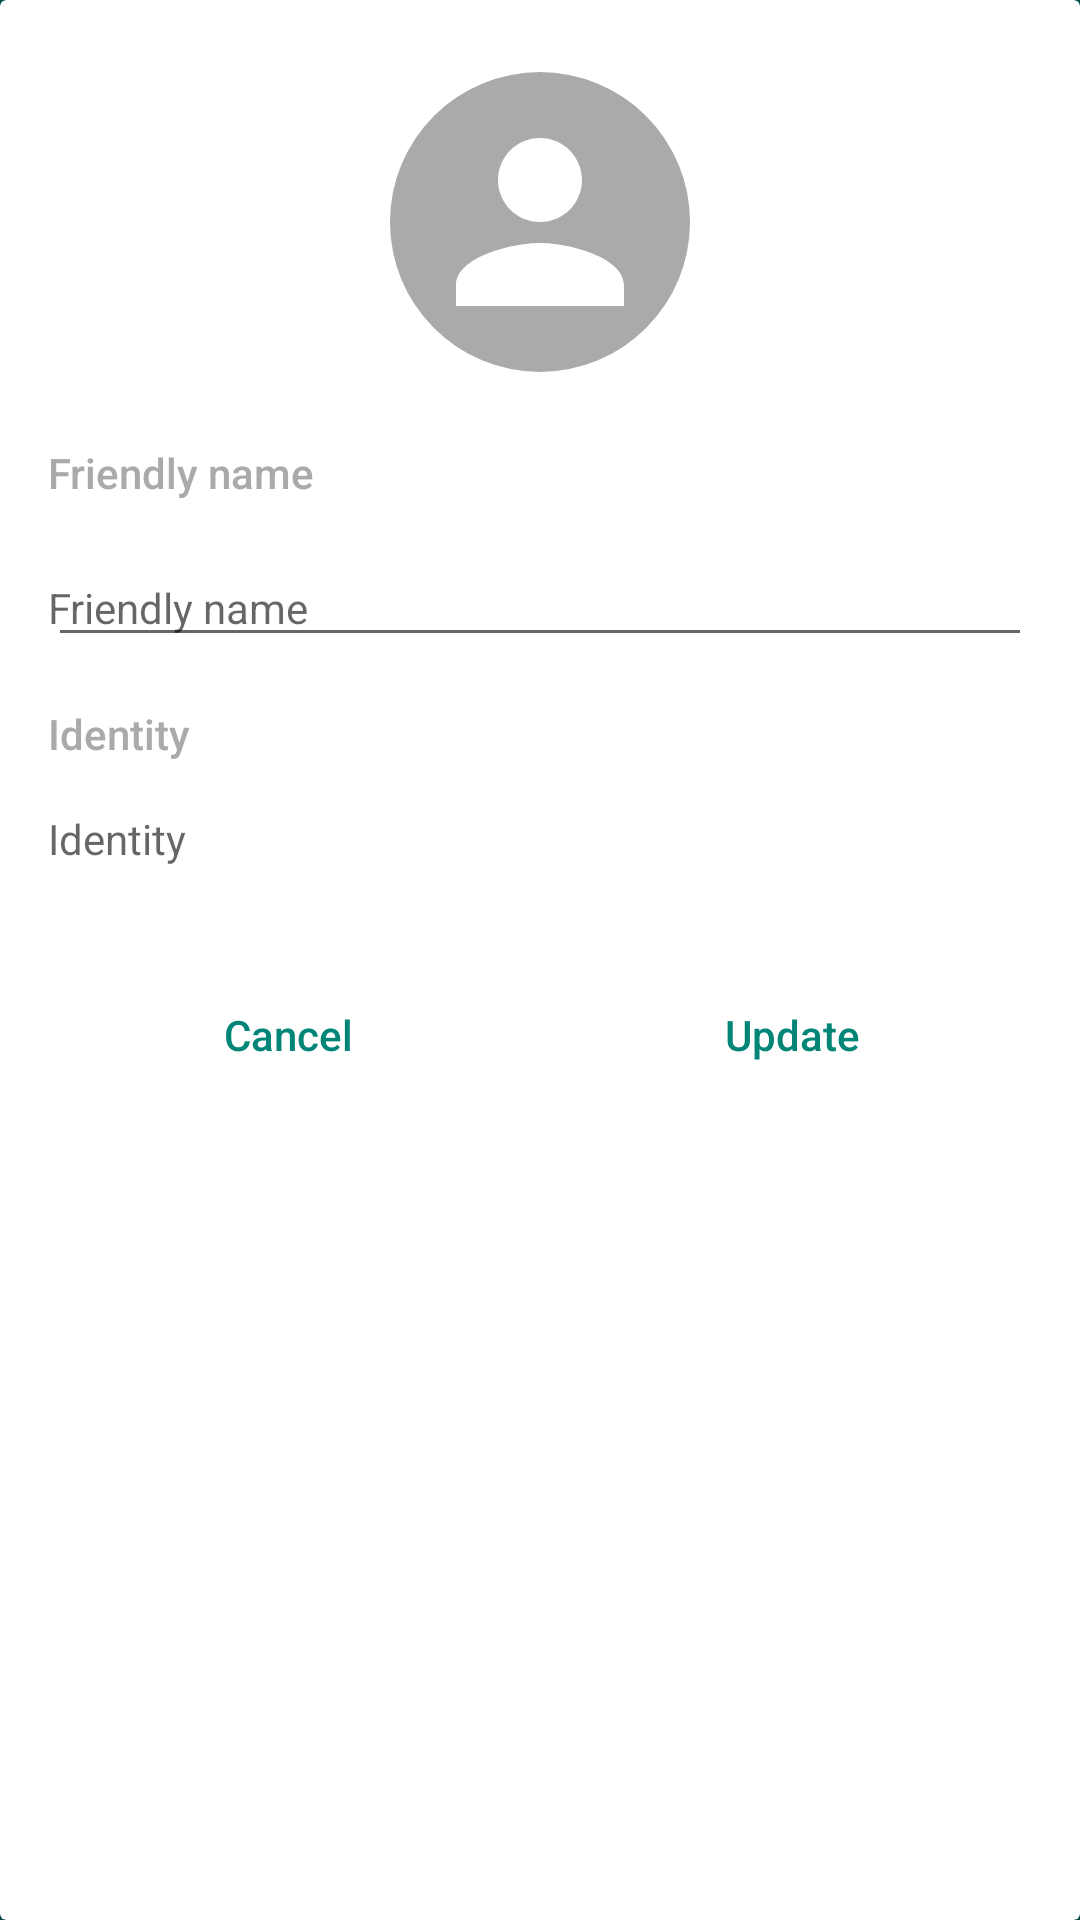

Named icons in this screenshot (1080px x 1920px) and their bounding boxes, (x1, y1, x2, y2):
participant: (390, 72, 690, 372)
